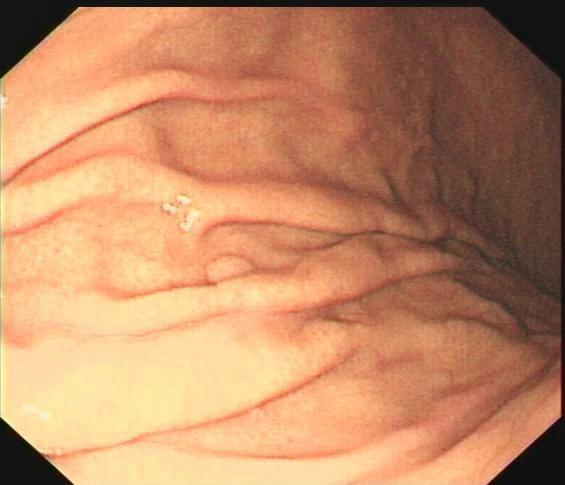Polyp: (188, 241, 285, 308)
